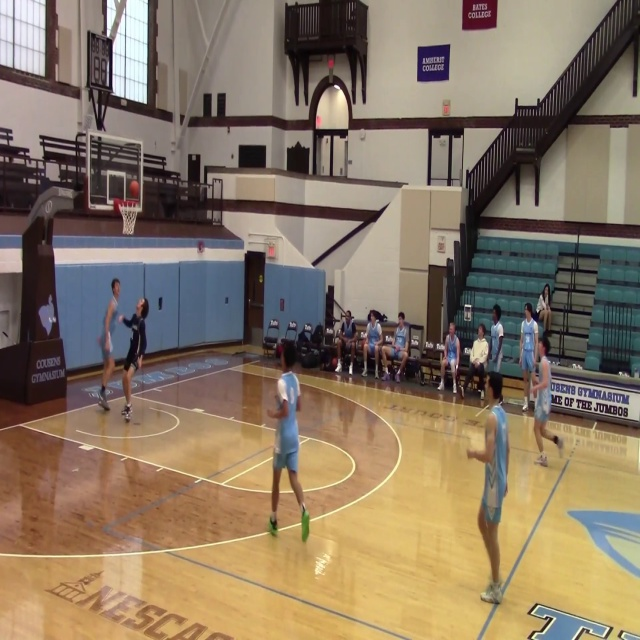Basketball: (129, 180, 140, 197)
